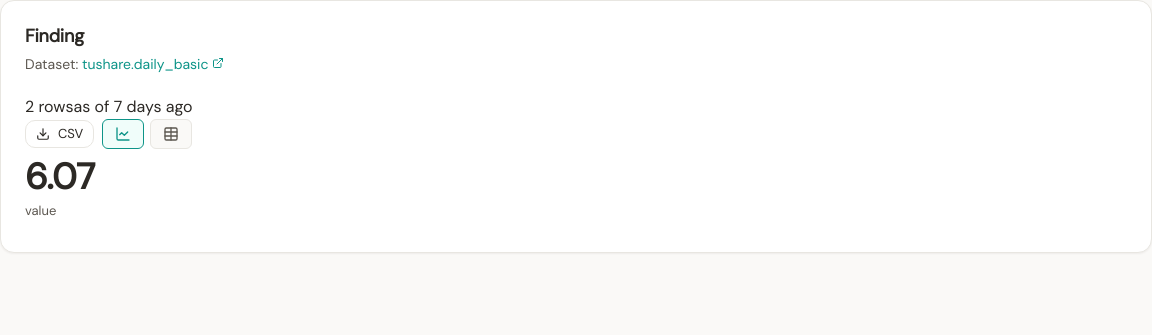
Test case: StoryFindingView › offers the table beside a drawn view, and switches to it
Expected: the element with class "finding-metric" is shown, [25,153,95,219]
the toggle's label (English, since the test pins the language)
Click the button titled "Table" at (171, 134), box [150,119,192,149]
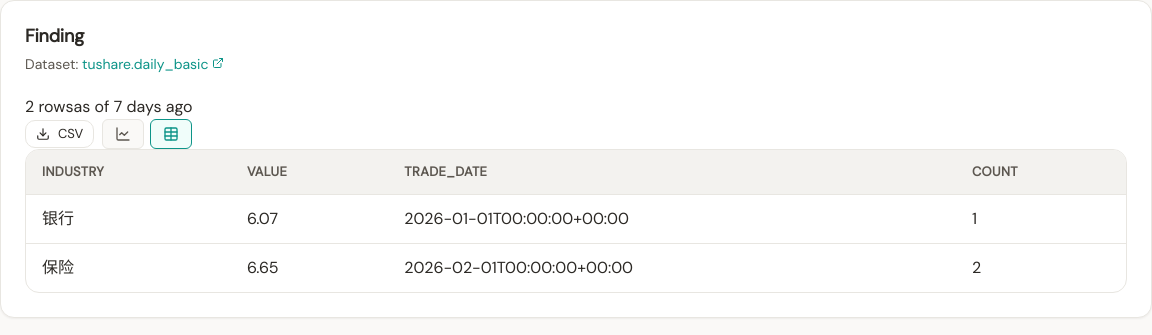
Expected: the element with class "finding-metric" is gone
Expected: the table is shown, [26,150,1126,292]
